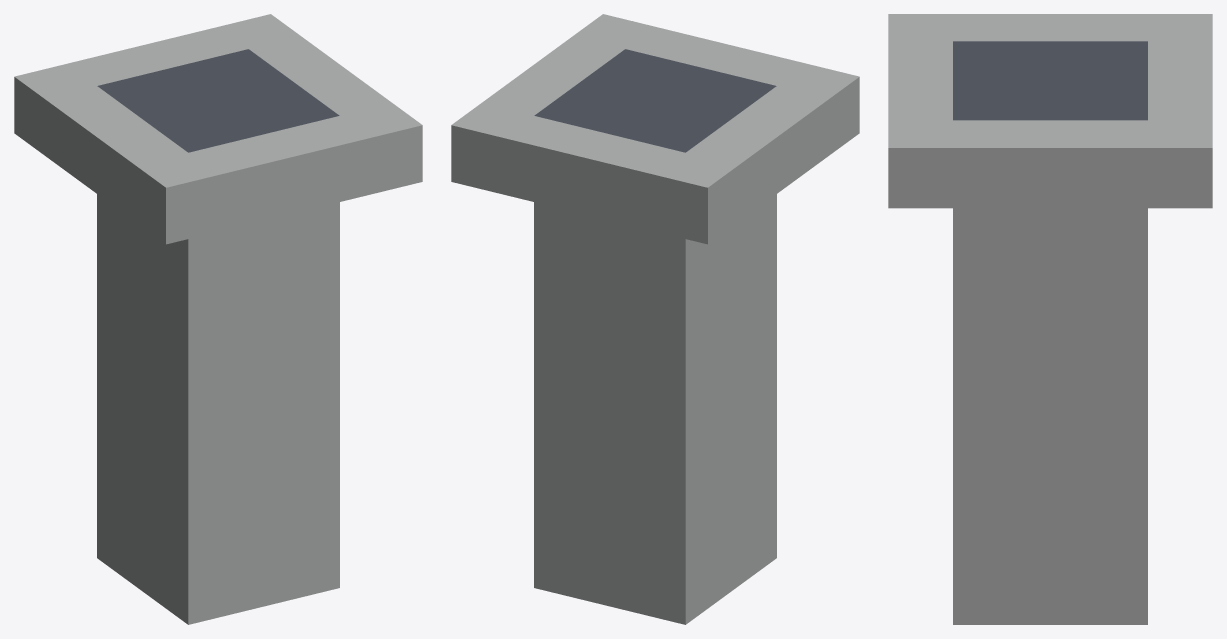
Rendered from column.FBX.
3 renders of one model, left to right at view 1: azimuth 30°, elevation 25°; view 2: azimuth 150°, elevation 25°; view 3: azimuth 270°, elevation 25°, orthographic. The views are drawn at different scales.
Parts seen in each view (by area): view 1: column; view 2: column; view 3: column.
Part boxes in pixels (x1=…): column: x1=14, y1=14, x2=422, y2=624; column: x1=451, y1=14, x2=859, y2=624; column: x1=888, y1=14, x2=1212, y2=624.
Bounding box in the file's own units: 2.54 × 4.47 × 2.6.
